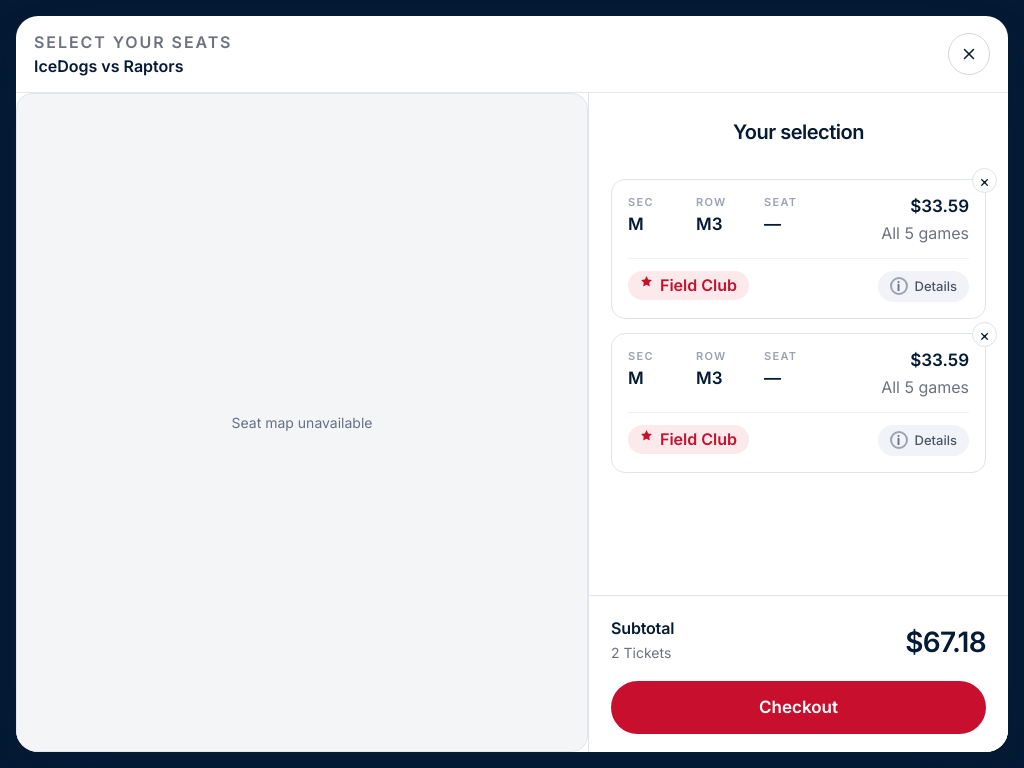
Test case: SeatMapSelectionOverlay map readiness › shows one Your selection card per package ticket
Expected: the number of buttons named "remove ticket" is 2, [972,168,997,193]; [972,322,997,347]
Click the 1st button "i Details". click: point(923, 286)
box: [878,270,969,302]
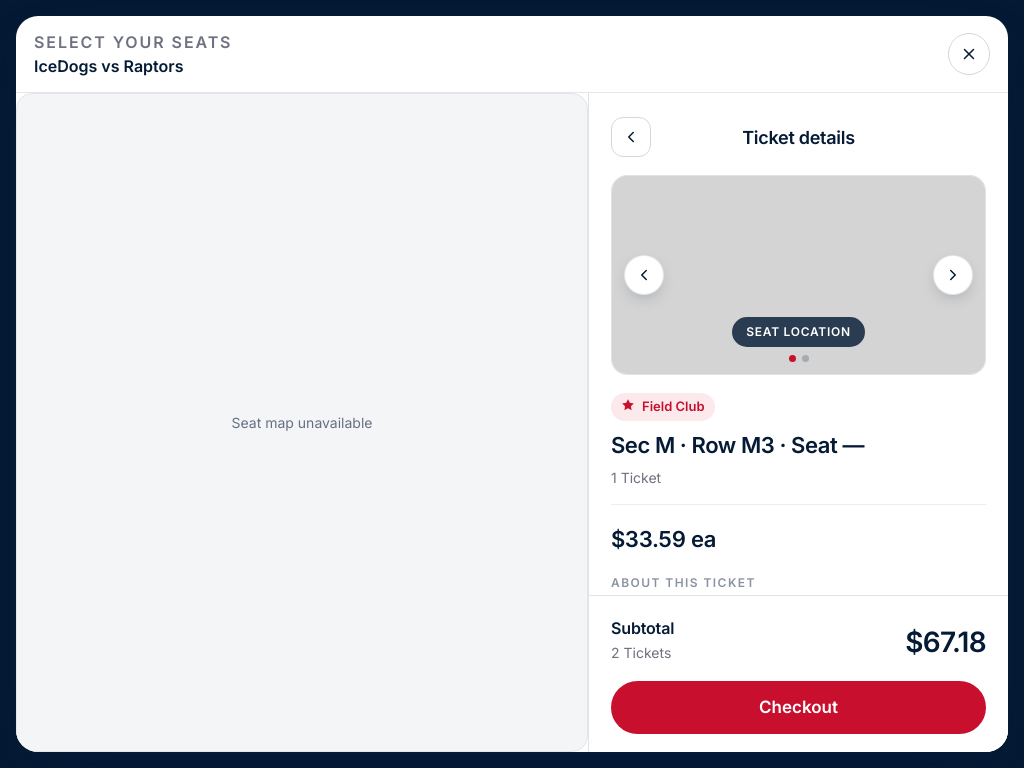
Expected: the text "Ticket details" is shown, [742,126,855,148]
